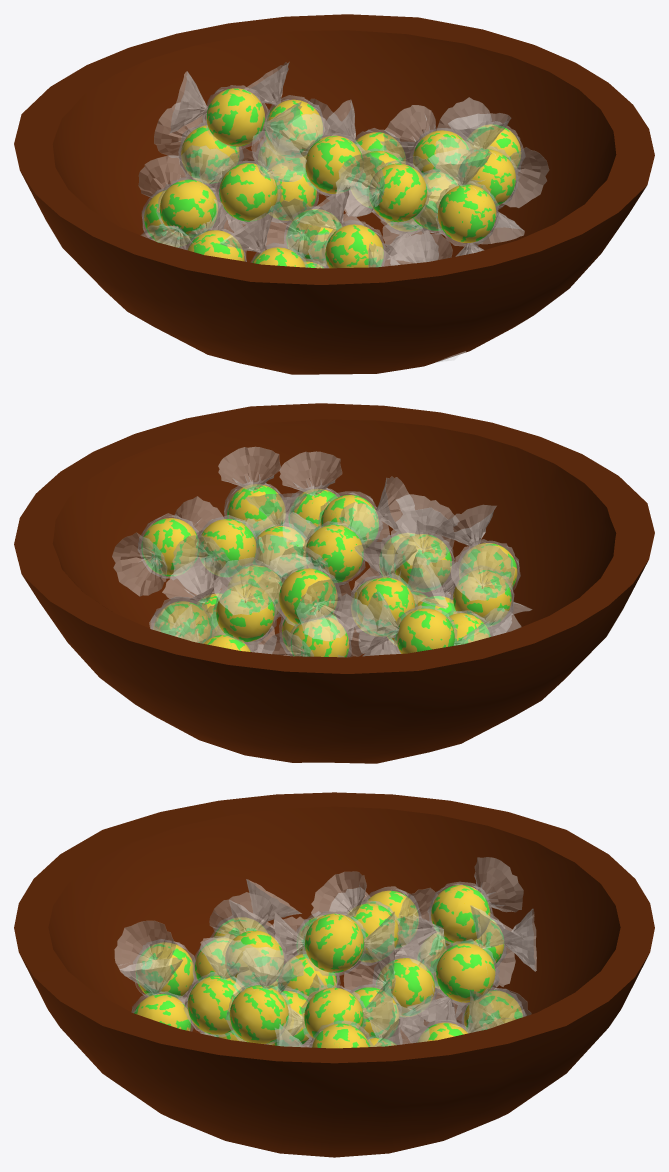
Rendered from candied greens.fbx.
3 renders of one model, top to bottom at view 1: azimuth 30°, elevation 25°; view 2: azimuth 150°, elevation 25°; view 3: azimuth 270°, elevation 25°, orthographic.
Visible parts, largest first — view 1: boul; view 2: boul; view 3: boul.
Part boxes in pixels (x1=…): boul: x1=14, y1=14, x2=654, y2=374; boul: x1=14, y1=403, x2=654, y2=763; boul: x1=14, y1=792, x2=654, y2=1157.
Size of the model in its own units: 28.74 by 10.62 by 28.74.
